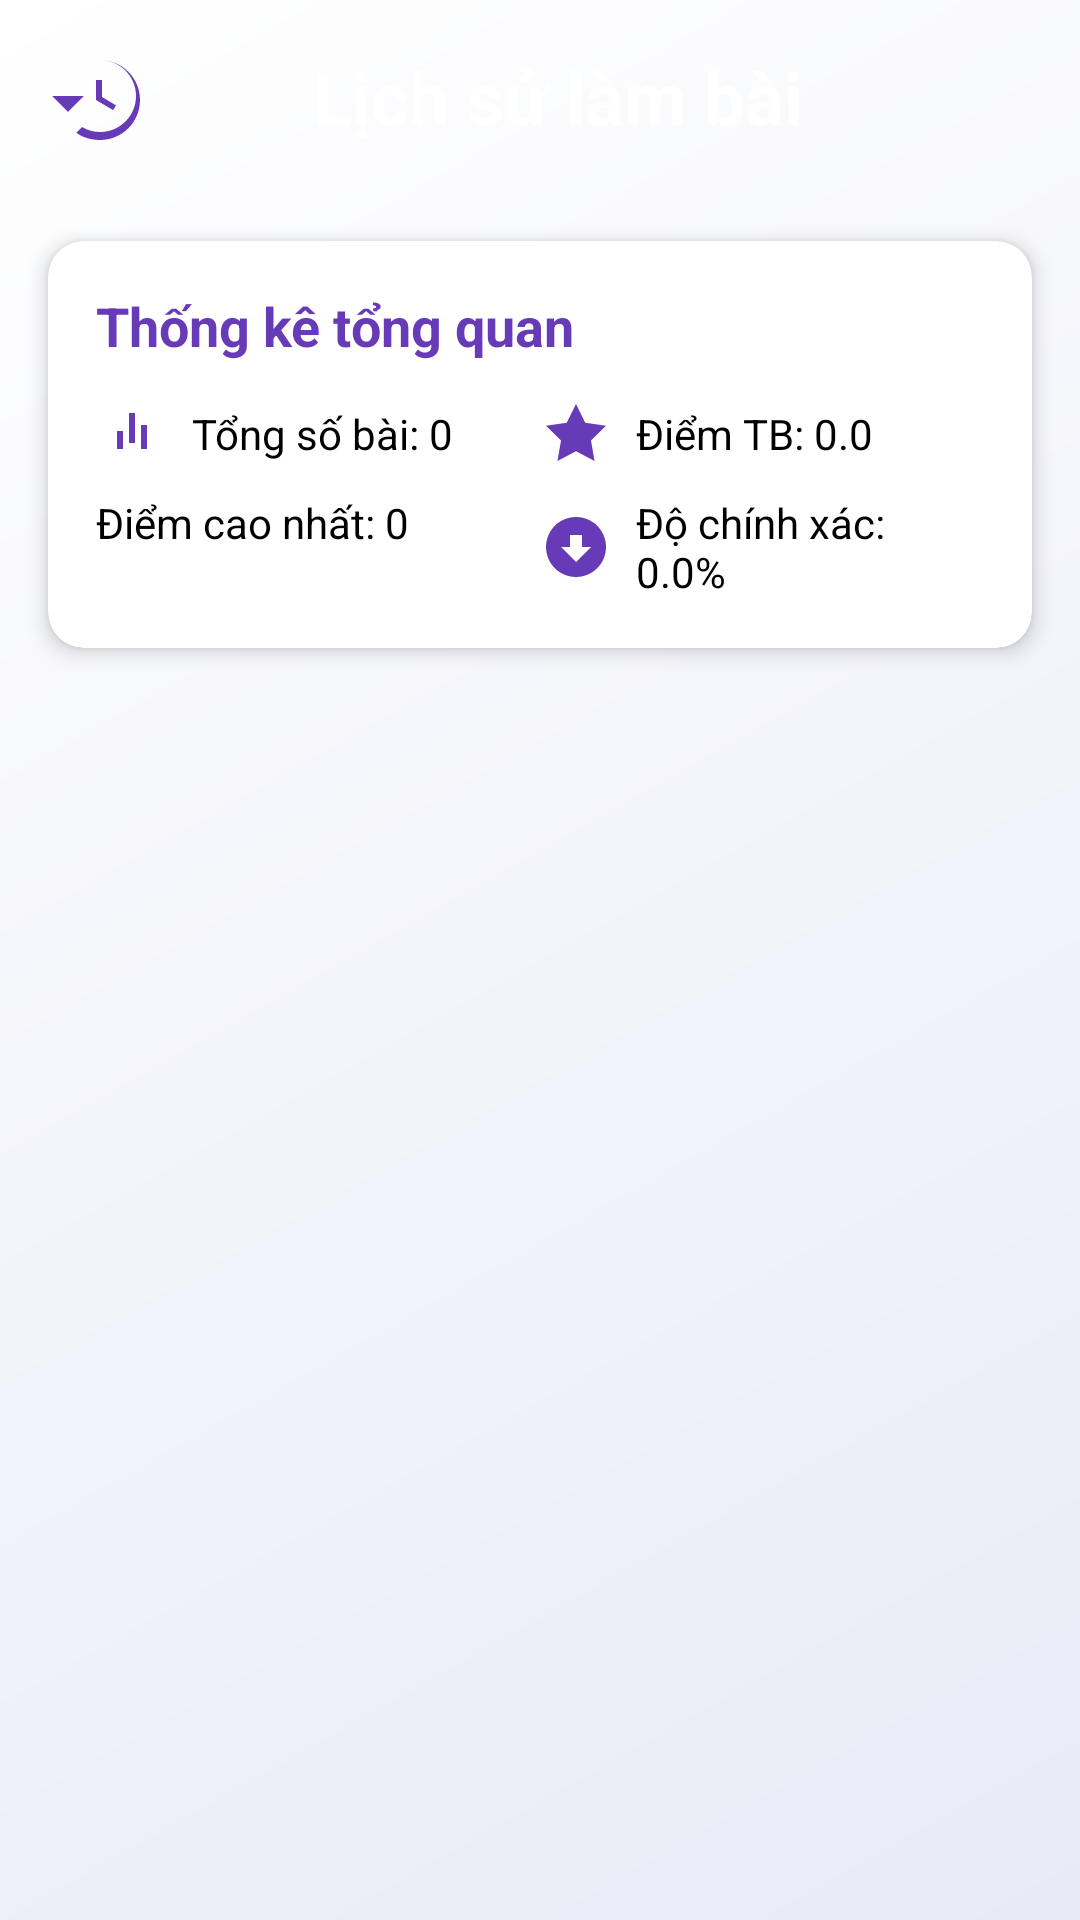

Where to tap for icons on this 1080px×1920px app screen, as point (x, y):
history: point (96, 100)
